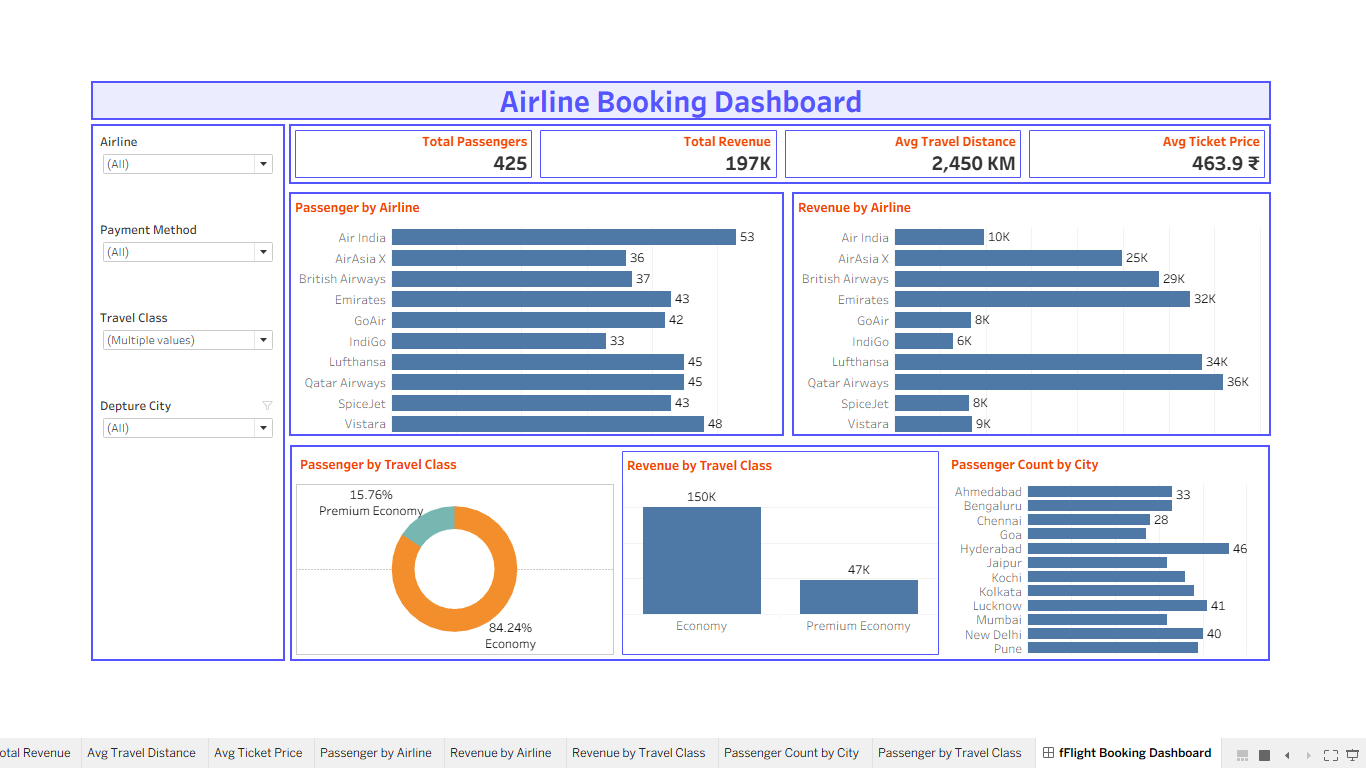

Layout of this report page (visuals, bound fields, positions):
{"tool":"tableau","page":{"name":"fFlight Booking Dashboard ","canvas":[1200,600],"ordinal":0},"visuals":[{"type":"text","box":[8,8,1184,46.9]},{"type":"worksheet","title":"Total Passengers","mark":"Automatic","box":[208,57,245,56]},{"type":"worksheet","title":"Total Revenue","mark":"Automatic","box":[453,57,245,56]},{"type":"worksheet","title":"Avg Travel Distance","mark":"Automatic","box":[698,57,244,56]},{"type":"worksheet","title":"Avg Ticket Price","mark":"Automatic","box":[942,57,244,56]},{"type":"filter","title":"Passenger by Airline","param":"[federated.1ifynri0cqlgbr16ywdqw1i9xpku].[none:Airline:nk]","box":[13,60,184,88]},{"type":"worksheet","title":"Passenger by Airline","mark":"Bar","rows":["Airline"],"cols":["Calculation_0840046824316928"],"box":[201.7,119,503,251.8]},{"type":"worksheet","title":"Revenue by Airline ","mark":"Bar","rows":["Airline"],"cols":["Calculation_0840046826893313"],"box":[705,119,487,252]},{"type":"filter","title":"Passenger by Airline","param":"[federated.1ifynri0cqlgbr16ywdqw1i9xpku].[none:Payment_Method:nk]","box":[13,148,184,88]},{"type":"filter","title":"Passenger by Airline","param":"[federated.1ifynri0cqlgbr16ywdqw1i9xpku].[none:Travel_Class:nk]","box":[13,236,184,88]},{"type":"filter","title":"Passenger by Airline","param":"[federated.1ifynri0cqlgbr16ywdqw1i9xpku].[none:Depture_City:nk]","box":[13,324,184,88]},{"type":"worksheet","title":"Passenger by Travel Class","mark":"Pie","rows":["Calculation_0840046838439942","Calculation_0840046838439942"],"box":[209,378,326,212]},{"type":"worksheet","title":"Revenue by Travel Class","mark":"Automatic","rows":["Calculation_0840046826893313"],"cols":["Travel_Class"],"box":[535,378,325,212]},{"type":"worksheet","title":"Passenger Count by City","mark":"Automatic","rows":["Depture_City"],"cols":["Calculation_0840046824316928"],"box":[860,378,325,212]}]}

Visuals, with their boxes on the page's 1200x600 design canvas (x1, y1, x2, y2). These are canvas units, not pixel positions in the 1366x768 screenshot, which may show the page scaled, cropped or inside an application window:
text: 8/8/1192/55
"Total Passengers" worksheet: 208/57/453/113
"Total Revenue" worksheet: 453/57/698/113
"Avg Travel Distance" worksheet: 698/57/942/113
"Avg Ticket Price" worksheet: 942/57/1186/113
"Passenger by Airline" filter: 13/60/197/148
"Passenger by Airline" worksheet (Bar marks): 202/119/705/371
"Revenue by Airline " worksheet (Bar marks): 705/119/1192/371
"Passenger by Airline" filter: 13/148/197/236
"Passenger by Airline" filter: 13/236/197/324
"Passenger by Airline" filter: 13/324/197/412
"Passenger by Travel Class" worksheet (Pie marks): 209/378/535/590
"Revenue by Travel Class" worksheet: 535/378/860/590
"Passenger Count by City" worksheet: 860/378/1185/590
